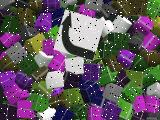Right: (53, 9, 105, 61)
